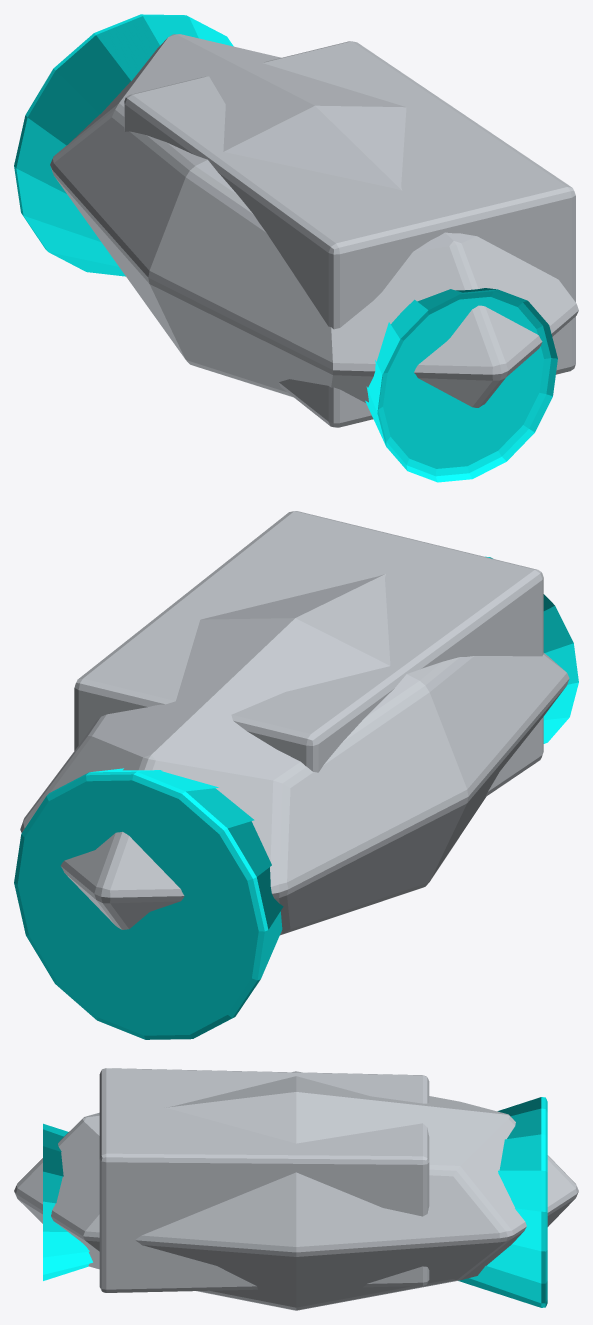
3 renders of one model, top to bottom at view 1: azimuth 30°, elevation 25°; view 2: azimuth 150°, elevation 25°; view 3: azimuth 270°, elevation 25°, orthographic. The views are drawn at different scales.
Parts seen in each view (by area): view 1: part_01_gltf_export_temp; view 2: part_01_gltf_export_temp; view 3: part_01_gltf_export_temp.
Boxes of the visible parts, x1,y1,x2,y2 form: part_01_gltf_export_temp: [14, 14, 578, 482]; part_01_gltf_export_temp: [14, 511, 578, 1039]; part_01_gltf_export_temp: [14, 1068, 578, 1310].
Size of the model in its own units: 0.5375 by 0.4327 by 1.04.
